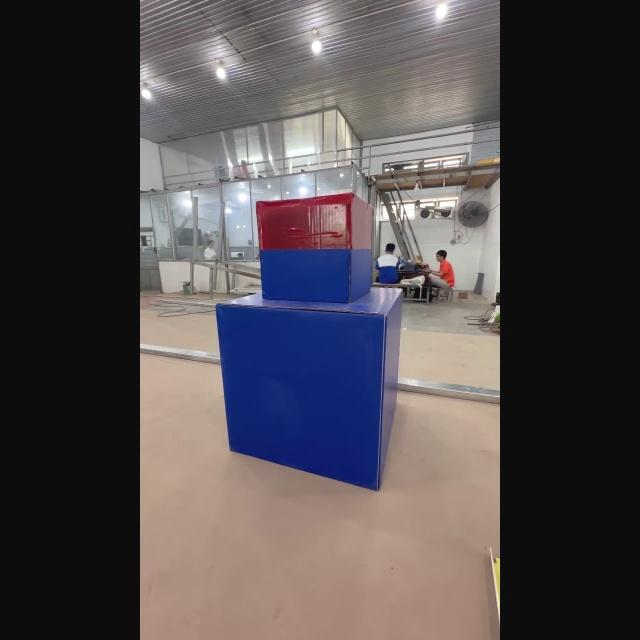earth_block: (215, 289, 406, 489)
sky_block: (254, 192, 378, 305)
